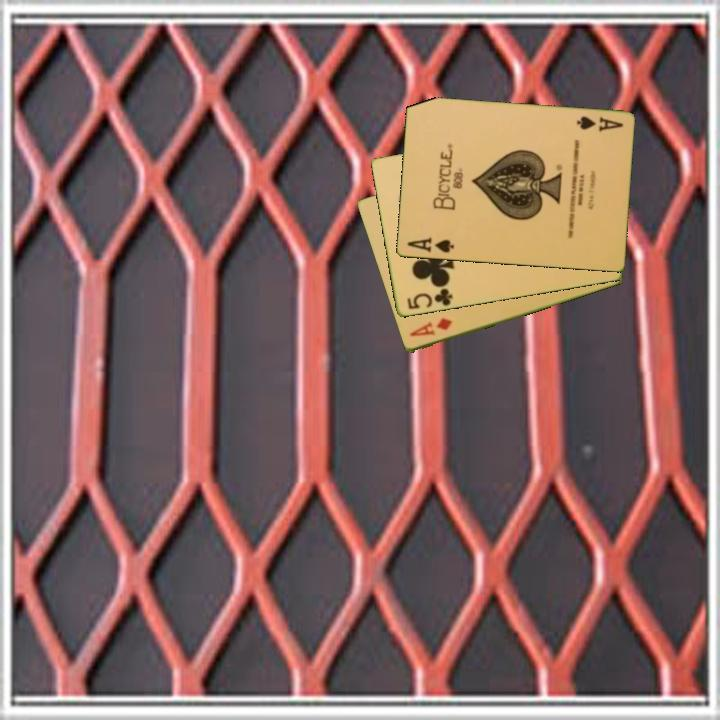5c: (403, 285, 455, 313)
Ad: (406, 315, 455, 340)
As: (403, 234, 457, 256), (573, 113, 626, 135)
